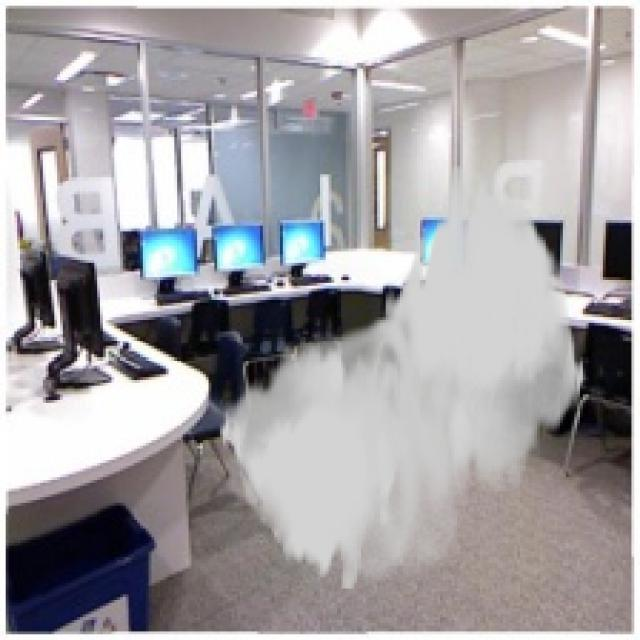Smoke: (217, 166, 586, 592)
